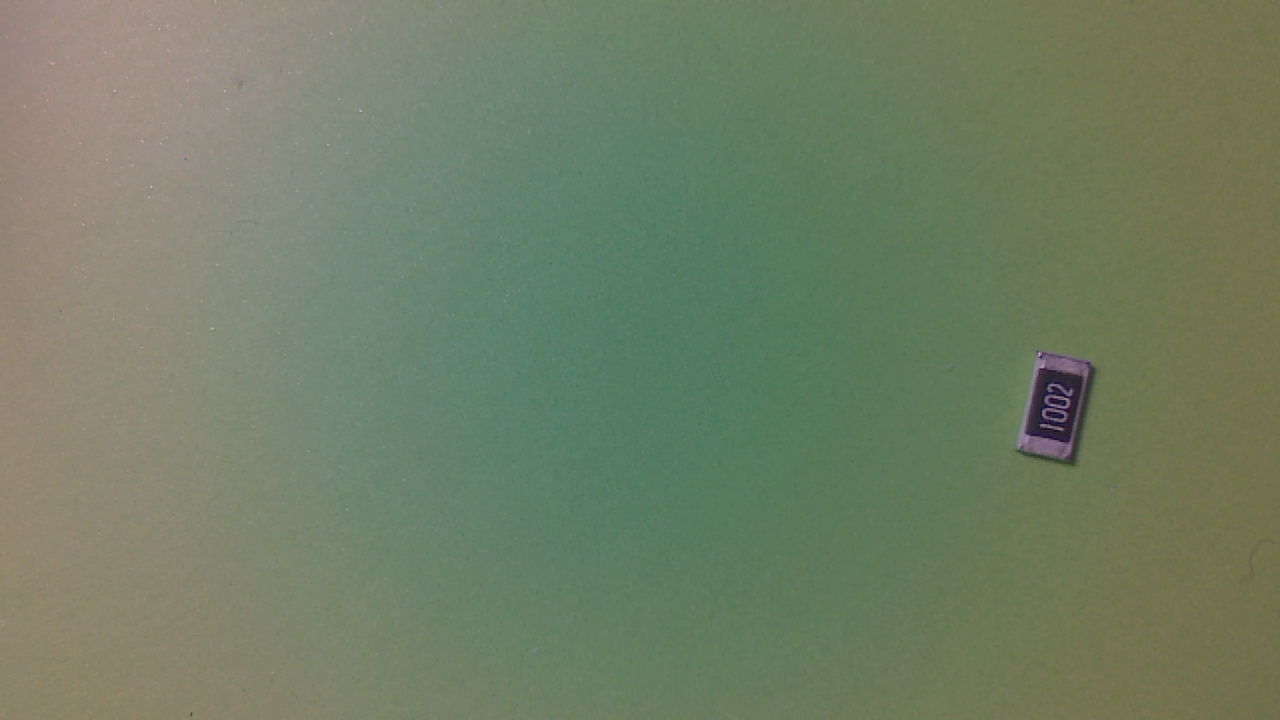Resistor: (1016, 350, 1102, 476)
